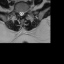CCS_normal: (20, 9, 22, 18)
LFS_normal: (24, 9, 26, 15)
LLS_normal: (22, 9, 24, 17)
RFS_stenosis: (16, 9, 18, 15)
RLS_normal: (18, 9, 20, 17)
